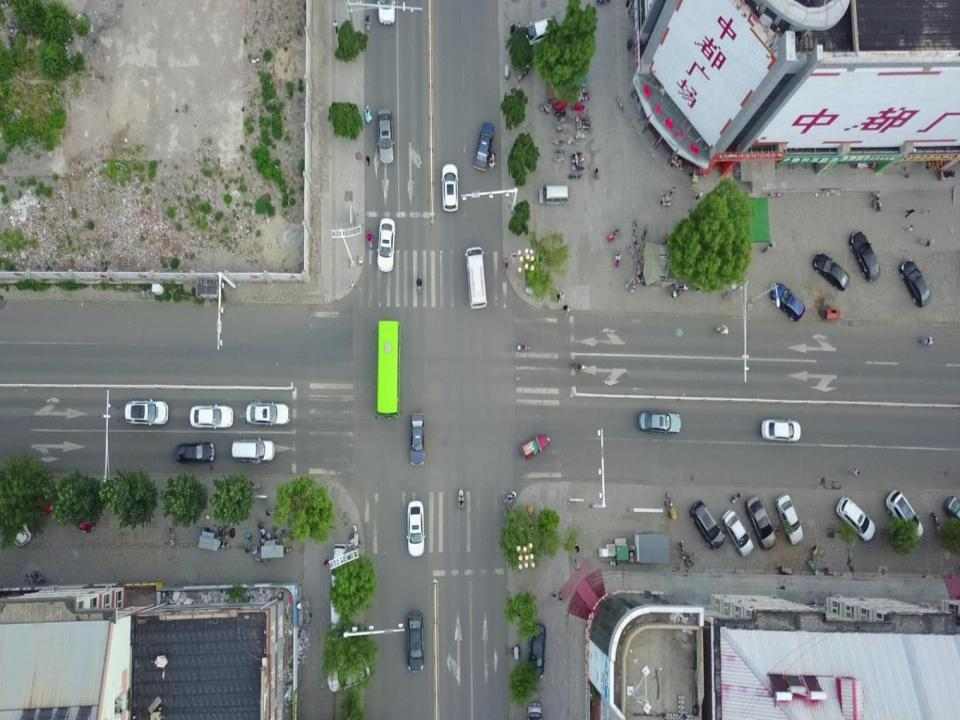bus: (374, 319, 401, 418)
car: (836, 494, 876, 542), (884, 488, 924, 536), (850, 227, 882, 282), (721, 507, 755, 558), (745, 496, 775, 551), (898, 259, 931, 309), (690, 500, 724, 548), (768, 280, 808, 320), (773, 493, 803, 545), (812, 249, 848, 292), (326, 657, 370, 692), (124, 396, 170, 426), (376, 108, 398, 166), (636, 406, 681, 434), (244, 401, 292, 427), (189, 404, 235, 431), (467, 246, 487, 308), (526, 620, 546, 682), (406, 501, 427, 557), (472, 122, 495, 173), (67, 494, 97, 533), (229, 439, 276, 463), (407, 613, 424, 674), (760, 417, 801, 442), (441, 163, 461, 214), (378, 216, 396, 272), (174, 440, 214, 465), (330, 541, 348, 589), (524, 18, 555, 45), (536, 182, 568, 206), (410, 412, 424, 466), (518, 437, 550, 460), (328, 598, 345, 634), (376, 0, 398, 26), (945, 493, 960, 518), (524, 700, 542, 720)
